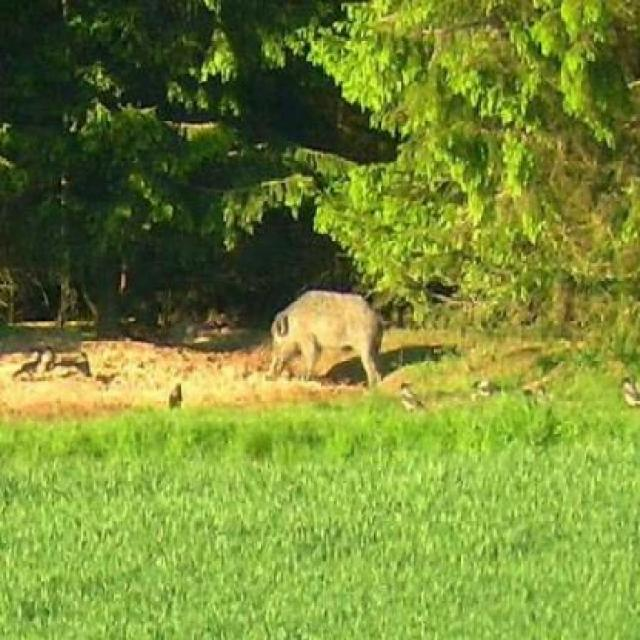pig: (240, 277, 405, 405)
